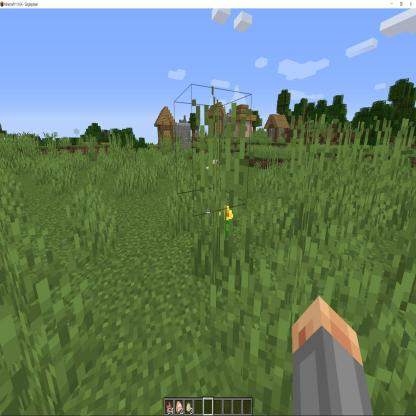minecraft-pigs: (205, 158, 221, 186)
